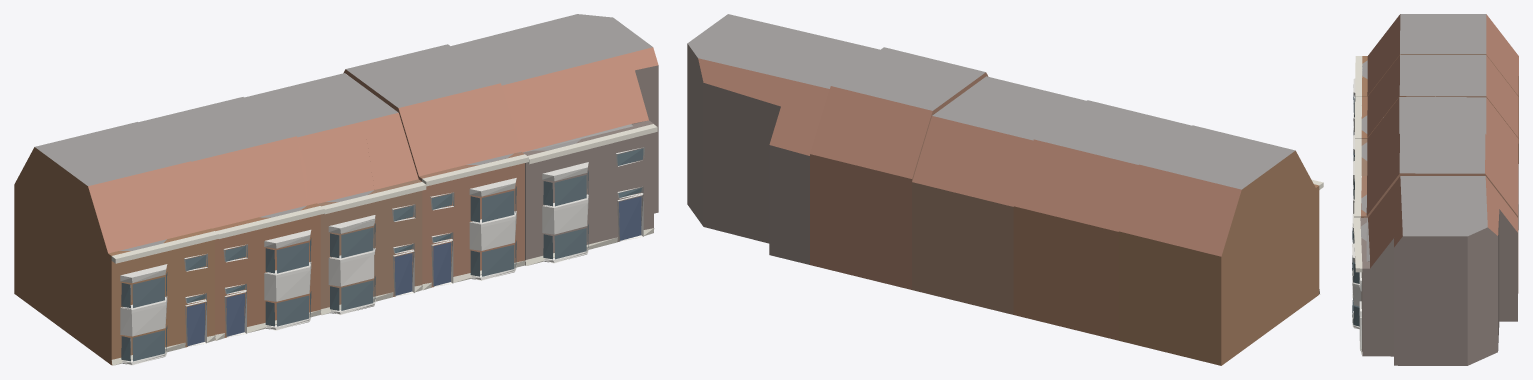
Rendered from chunk-face-reij-25-39-r1.lod2.glb.
3 renders of one model, left to right at view 1: azimuth 30°, elevation 25°; view 2: azimuth 150°, elevation 25°; view 3: azimuth 270°, elevation 25°, orthographic. The views are drawn at different scales.
Visible parts, largest first — view 1: lod2; view 2: lod2; view 3: lod2.
Boxes of the visible parts, <box> form: lod2: <box>14,14,658,365</box>; lod2: <box>687,14,1323,365</box>; lod2: <box>1352,14,1518,365</box>.
Bounding box in the file's own units: 31.4 × 8.69 × 9.97.
